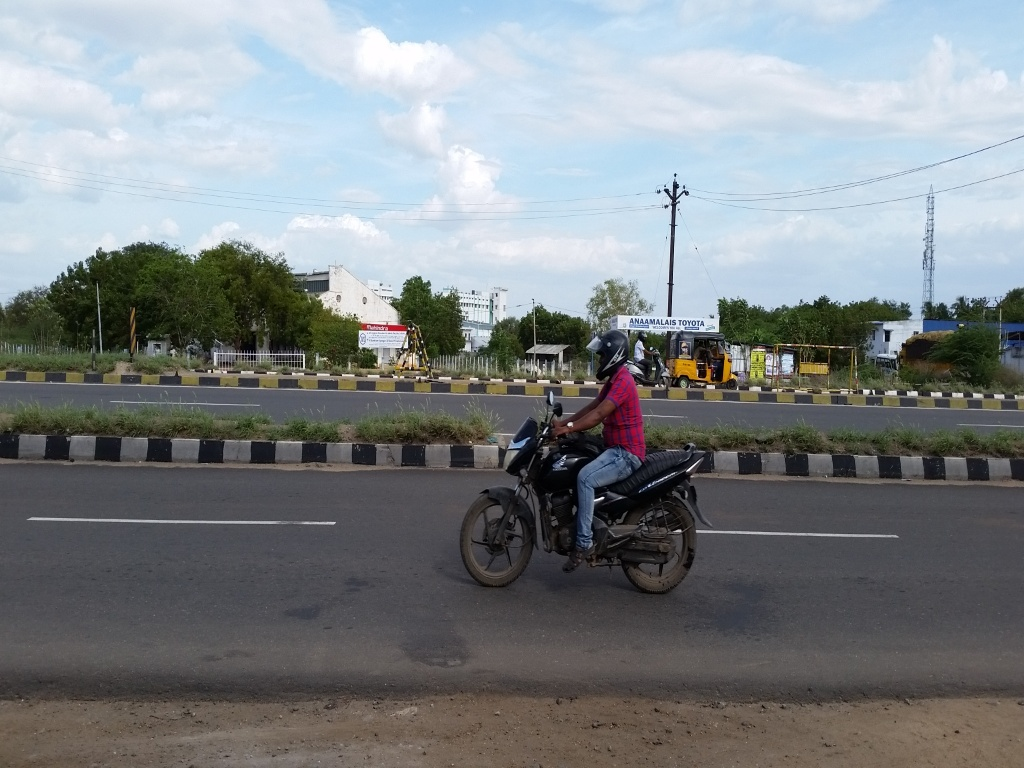biker: (442, 268, 725, 612), (632, 309, 685, 390)
helmet: (581, 322, 631, 390), (632, 327, 653, 347)
